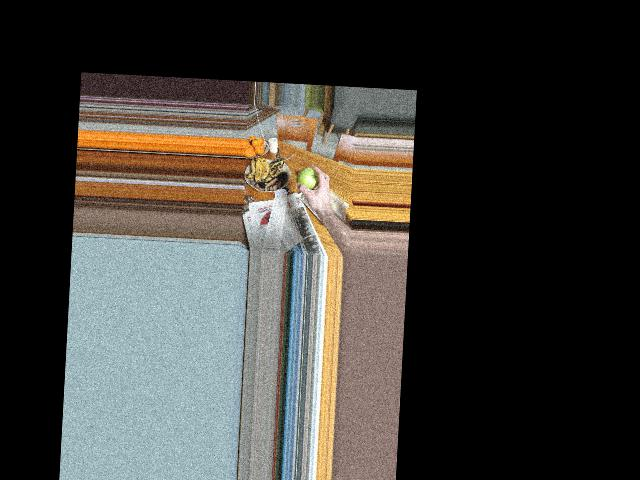apple: (297, 165, 319, 191)
